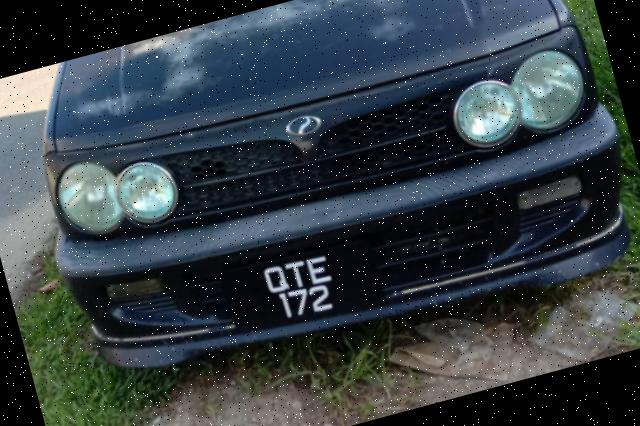License_Plate: (221, 234, 385, 341)
car: (14, 1, 640, 407)
